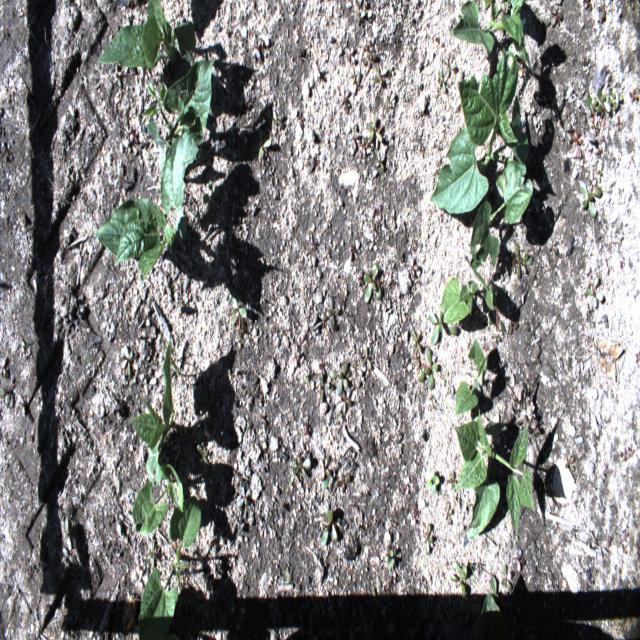crop: (91, 133, 206, 281), (429, 46, 529, 214), (449, 410, 535, 542), (137, 58, 216, 174), (138, 493, 201, 638), (98, 0, 195, 92), (127, 336, 183, 483), (469, 159, 534, 268), (450, 0, 534, 77), (438, 254, 500, 330), (132, 462, 184, 534), (455, 338, 486, 416), (467, 588, 515, 638)
weed: (585, 85, 623, 126), (508, 240, 534, 281), (578, 180, 602, 218), (417, 346, 438, 389), (363, 264, 382, 305), (329, 360, 350, 396), (321, 295, 342, 331), (583, 277, 605, 310), (230, 295, 248, 335), (120, 343, 138, 381), (365, 110, 384, 144), (321, 508, 338, 544), (450, 561, 467, 596), (428, 307, 443, 344), (292, 454, 312, 478), (420, 521, 434, 552), (423, 468, 440, 493), (500, 562, 513, 590), (512, 547, 526, 572), (360, 341, 372, 370), (319, 371, 329, 405), (558, 118, 572, 142), (340, 388, 352, 413), (444, 53, 455, 79), (550, 5, 564, 25), (320, 455, 331, 480), (411, 328, 421, 354)
